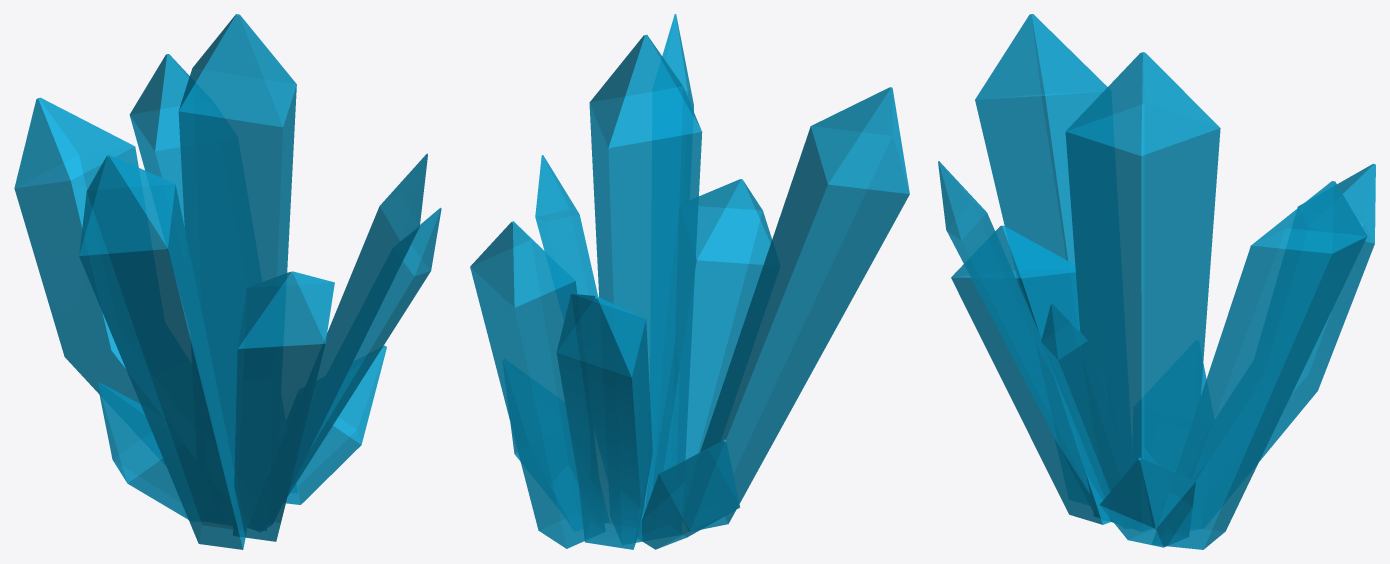
Rendered from Crystal.fbx.
The picture shows the model from 3 angles, left to right: view 1: azimuth 30°, elevation 25°; view 2: azimuth 150°, elevation 25°; view 3: azimuth 270°, elevation 25°; orthographic projection. The views are drawn at different scales.
Visible parts, largest first — view 1: Crystal; view 2: Crystal; view 3: Crystal.
Part boxes in pixels (x1,y1,x2,y2): Crystal: (14,14,441,549); Crystal: (470,14,909,549); Crystal: (938,14,1375,549).
Bounding box in the file's own units: 5.06 × 6.53 × 5.61.
